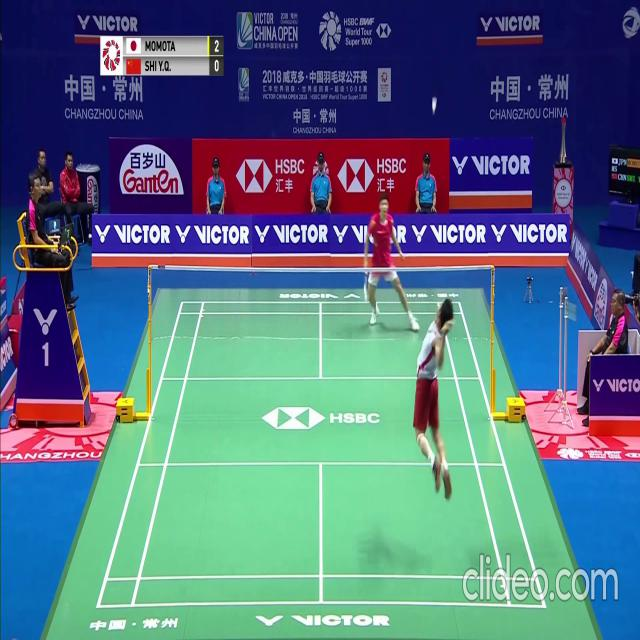Shuttlecock: (432, 108, 437, 116)
